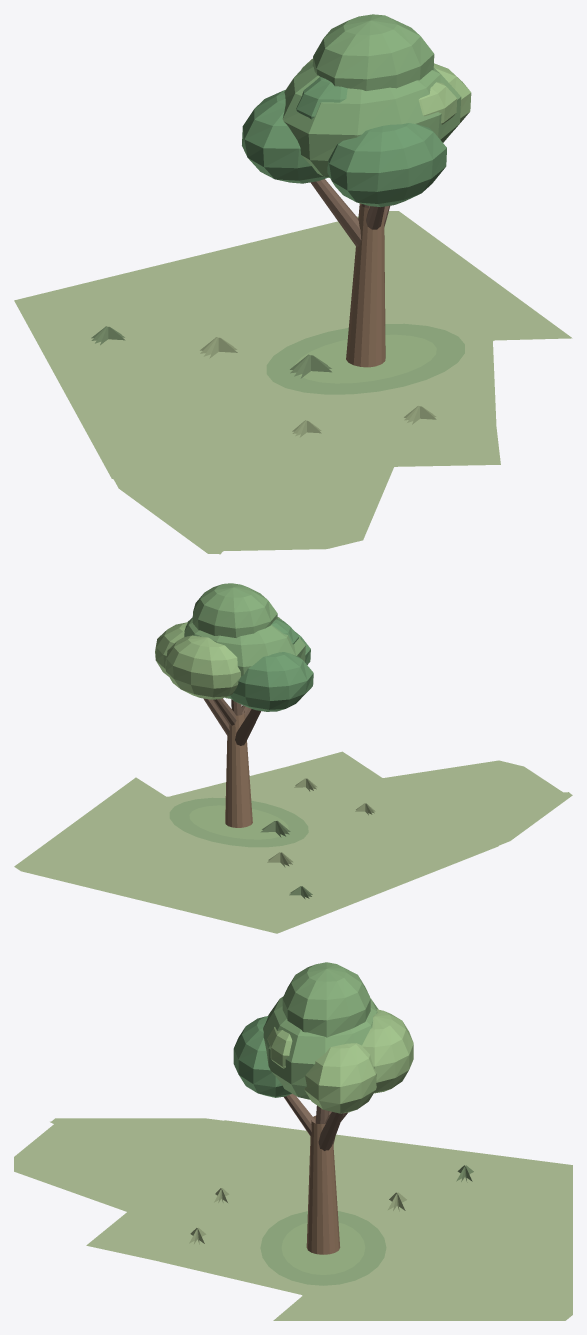
Rendered from COURTYARD-147-GARDEN.glb.
The picture shows the model from 3 angles, top to bottom: view 1: azimuth 30°, elevation 25°; view 2: azimuth 150°, elevation 25°; view 3: azimuth 270°, elevation 25°; orthographic projection. The views are drawn at different scales.
Visible parts, largest first — view 1: COURTYARD-147-GARDEN; view 2: COURTYARD-147-GARDEN; view 3: COURTYARD-147-GARDEN.
Part boxes in pixels (x1,y1,x2,y2): COURTYARD-147-GARDEN: (14, 14, 572, 554); COURTYARD-147-GARDEN: (14, 583, 572, 933); COURTYARD-147-GARDEN: (14, 962, 572, 1320).
Size of the model in its own units: 12 by 7.8 by 14.
